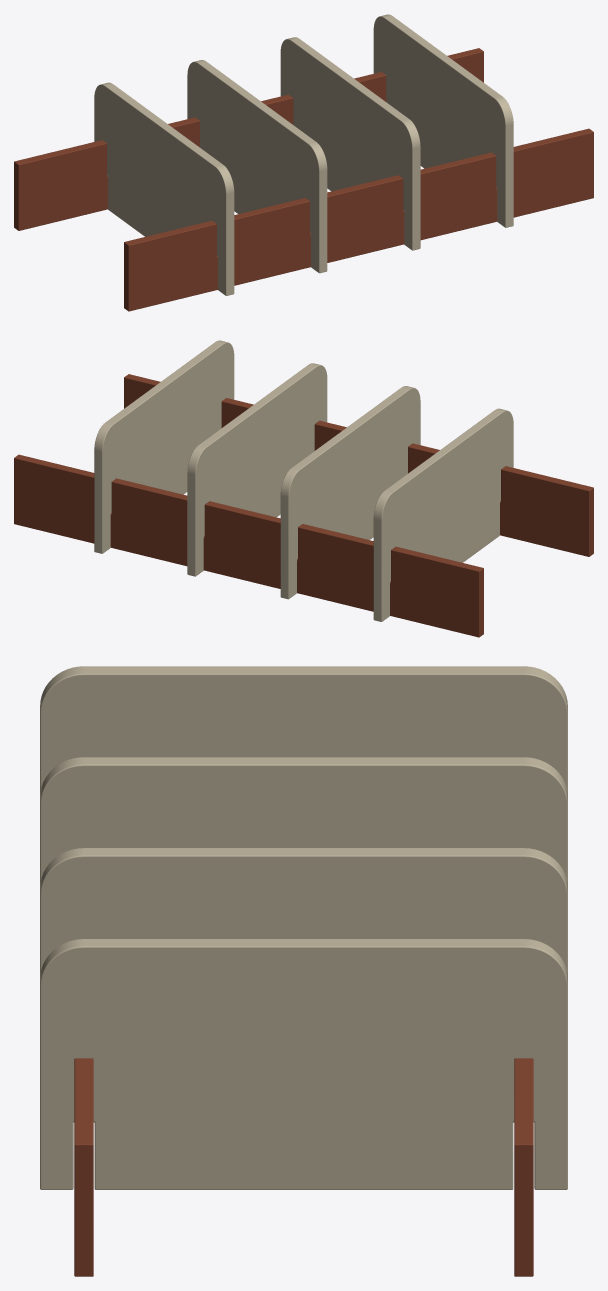
3 renders of one model, top to bottom at view 1: azimuth 30°, elevation 25°; view 2: azimuth 150°, elevation 25°; view 3: azimuth 270°, elevation 25°, orthographic. The views are drawn at different scales.
Visible parts, largest first — view 1: Rail 1, Divider 1, Divider 4, Divider 3, Divider 2, Rail 2; view 2: Rail 2, Divider 1, Divider 4, Divider 3, Divider 2, Rail 1; view 3: Divider 4, Divider 1, Divider 2, Divider 3, Rail 1, Rail 2.
Boxes of the visible parts, box(x1,y1,x2,y2) form: Rail 1: box(124, 128, 593, 311); Divider 1: box(94, 82, 234, 295); Divider 4: box(373, 14, 513, 227); Divider 3: box(280, 37, 420, 250); Divider 2: box(187, 60, 327, 273); Rail 2: box(14, 48, 483, 230); Rail 2: box(14, 454, 483, 637); Divider 1: box(373, 408, 513, 621); Divider 4: box(94, 340, 234, 553); Divider 3: box(187, 363, 327, 576); Divider 2: box(280, 386, 420, 599); Rail 1: box(124, 374, 593, 556); Divider 4: box(40, 939, 567, 1189); Divider 1: box(40, 666, 567, 795); Divider 2: box(40, 757, 567, 886); Divider 3: box(40, 848, 567, 976); Rail 1: box(74, 1058, 93, 1276); Rail 2: box(514, 1058, 533, 1276).
Size of the model in its own units: 0.44 by 0.11 by 0.216.
